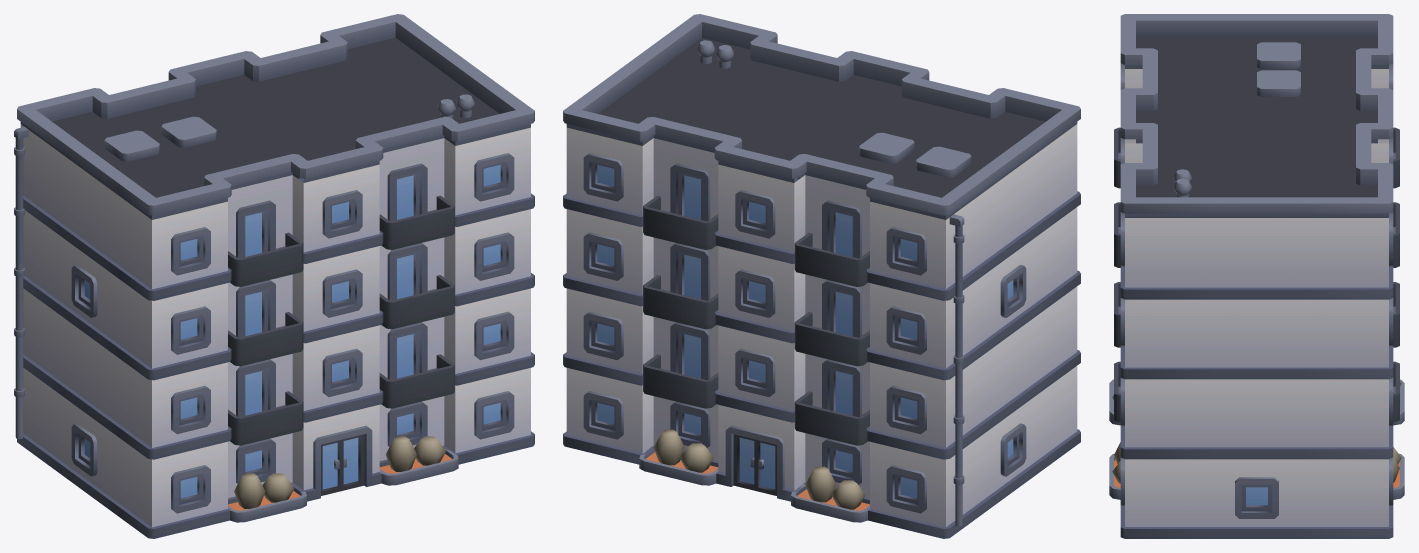
File: building-j.glb
3 renders of one model, left to right at view 1: azimuth 30°, elevation 25°; view 2: azimuth 150°, elevation 25°; view 3: azimuth 270°, elevation 25°, orthographic.
Parts seen in each view (by area): view 1: building-j; view 2: building-j; view 3: building-j.
Boxes of the visible parts, <box> form: building-j: <box>14,14,534,538</box>; building-j: <box>563,14,1080,538</box>; building-j: <box>1109,14,1404,538</box>.
Bounding box in the file's own units: 2.08 × 1.69 × 1.34.
Materials: 1 (1 with a texture image).
